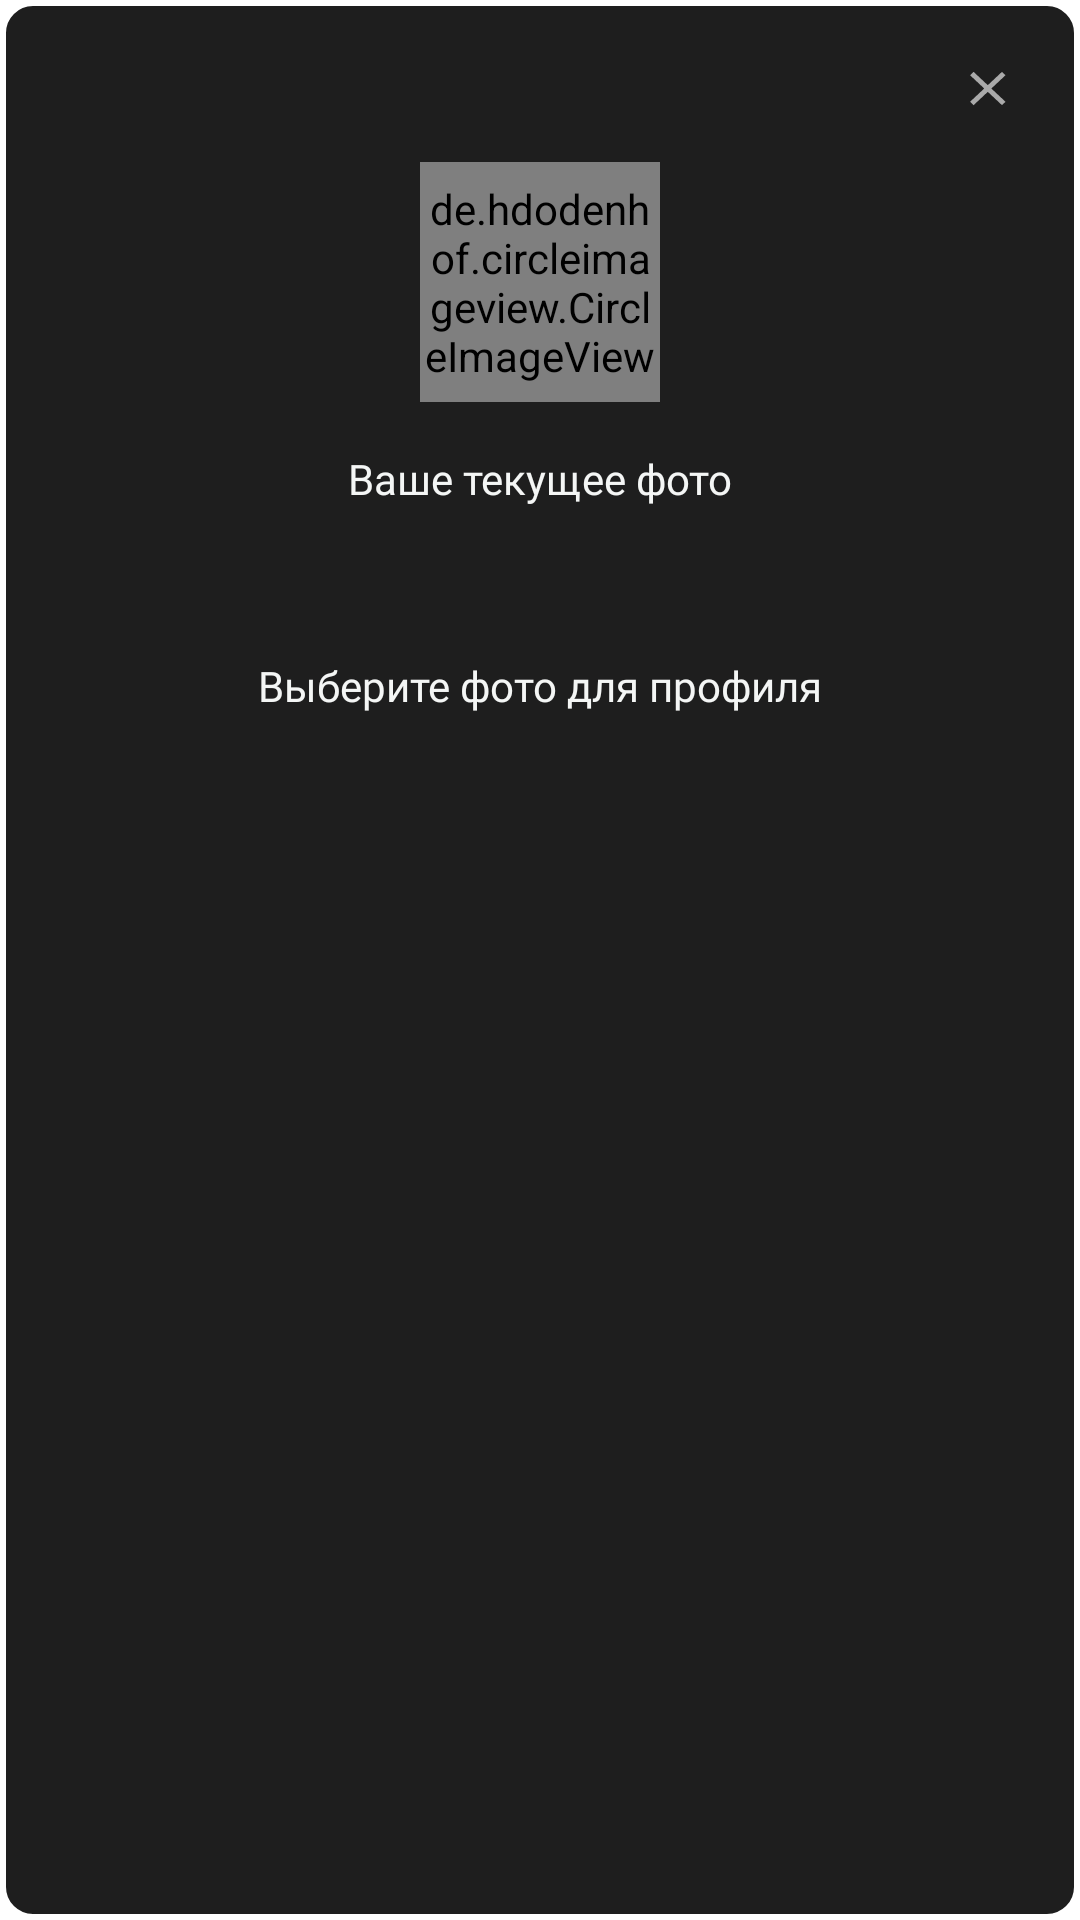

Named icons in this screenshot (1080w x 1920h) and their bounding boxes, BBox(x1, y1, x2, y2):
close: BBox(970, 72, 1006, 105)
